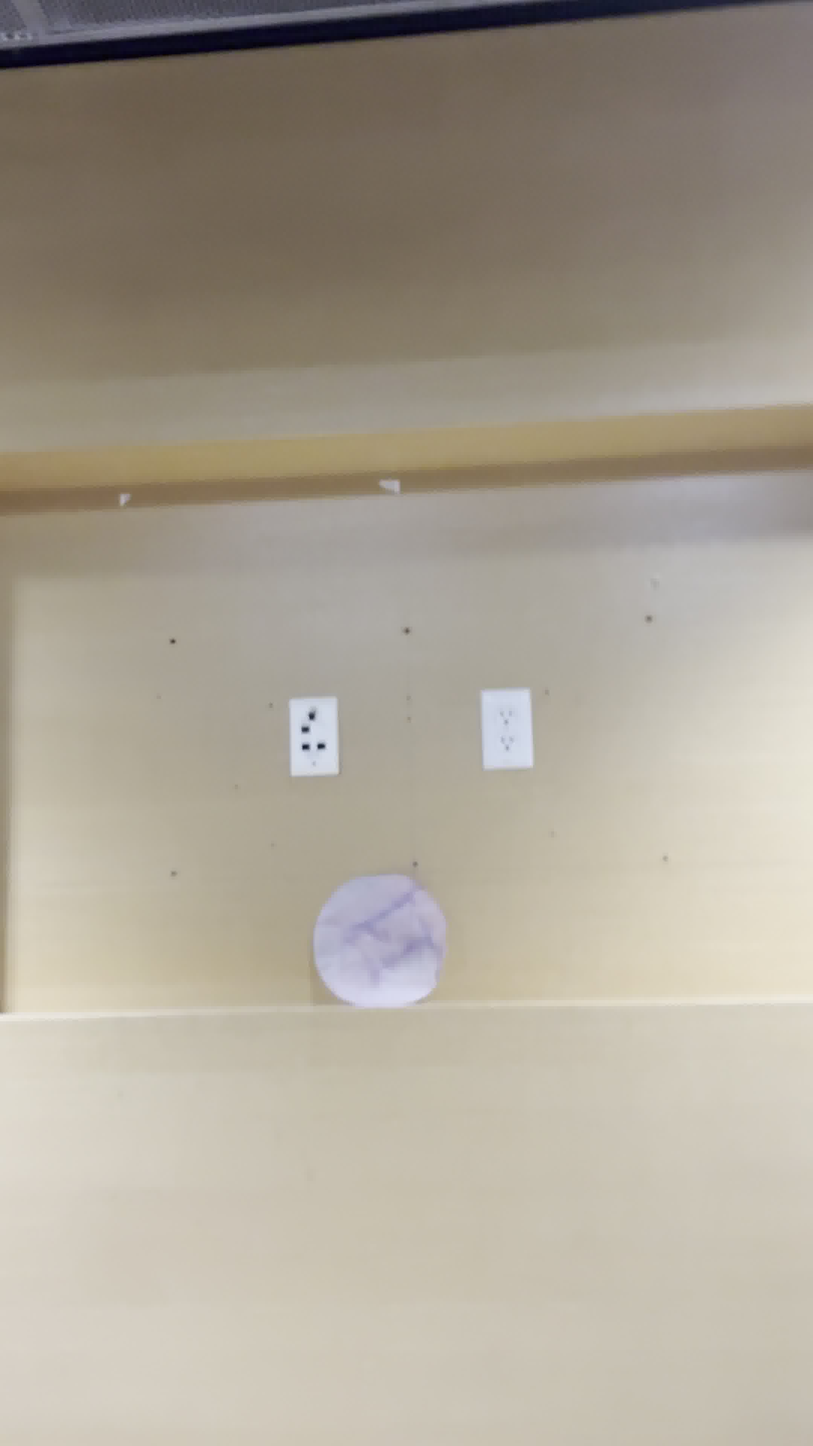Target: (307, 877, 452, 1005)
